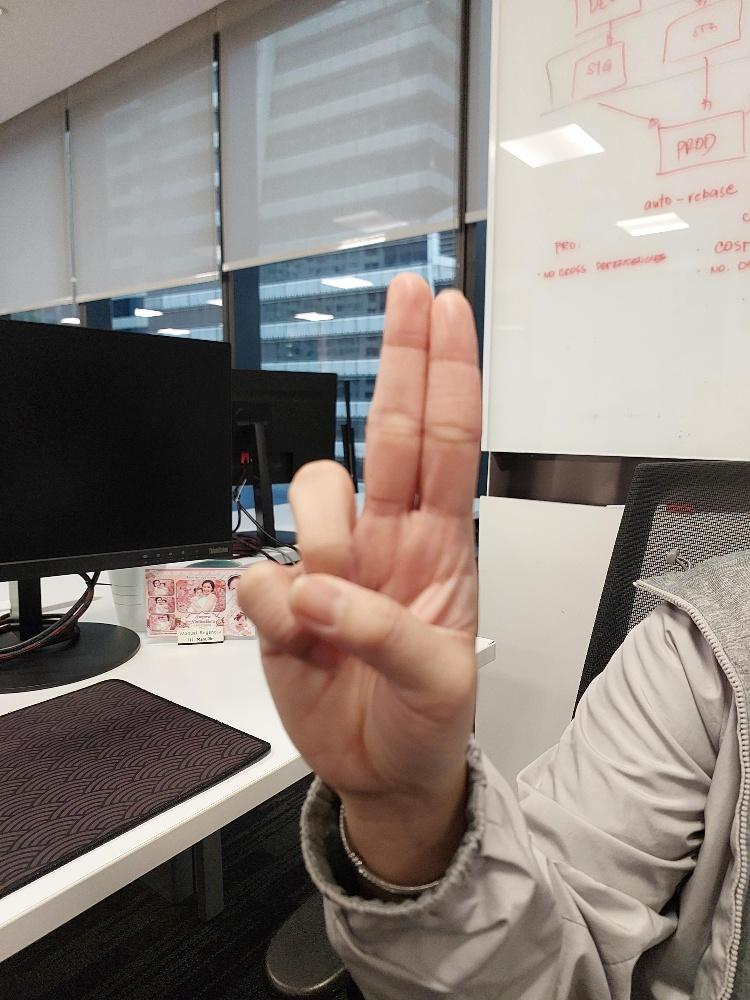u: (234, 270, 478, 792)
